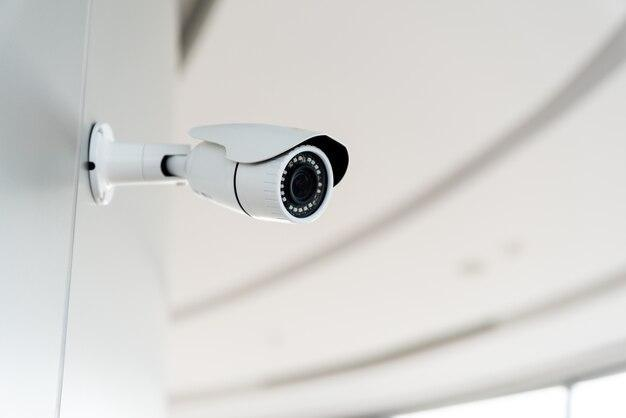camera: (176, 92, 362, 260)
